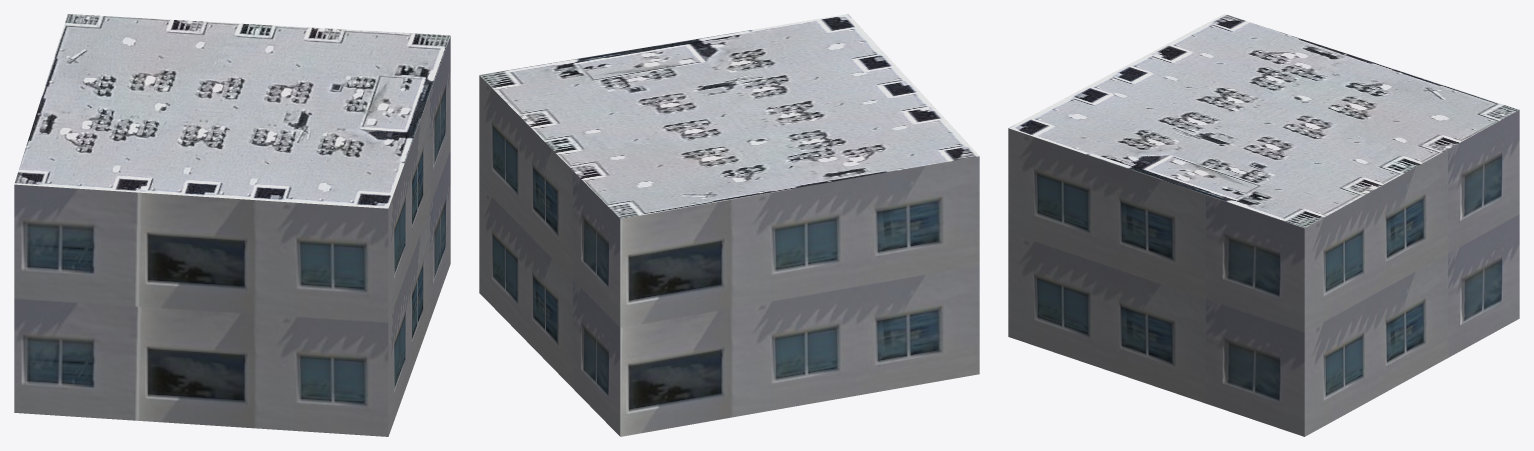
The model's file is ResTex__3177.fbx.
3 views of the same model, side by side, from view 1: azimuth 30°, elevation 25°; view 2: azimuth 150°, elevation 25°; view 3: azimuth 270°, elevation 25° (orthographic). The views are drawn at different scales.
Visible parts, largest first — view 1: CityEngineMaterial_10_m, CityEngineMaterial_m; view 2: CityEngineMaterial_10_m, CityEngineMaterial_m; view 3: CityEngineMaterial_10_m, CityEngineMaterial_m.
Boxes of the visible parts, x1=… form: CityEngineMaterial_10_m: x1=14, y1=36, x2=450, y2=436; CityEngineMaterial_m: x1=14, y1=14, x2=450, y2=208; CityEngineMaterial_10_m: x1=479, y1=75, x2=979, y2=436; CityEngineMaterial_m: x1=479, y1=14, x2=979, y2=218; CityEngineMaterial_10_m: x1=1008, y1=110, x2=1519, y2=436; CityEngineMaterial_m: x1=1008, y1=14, x2=1519, y2=228.
Size of the model in its own units: 13.21 by 6 by 13.33.
2 materials, 2 textured.
